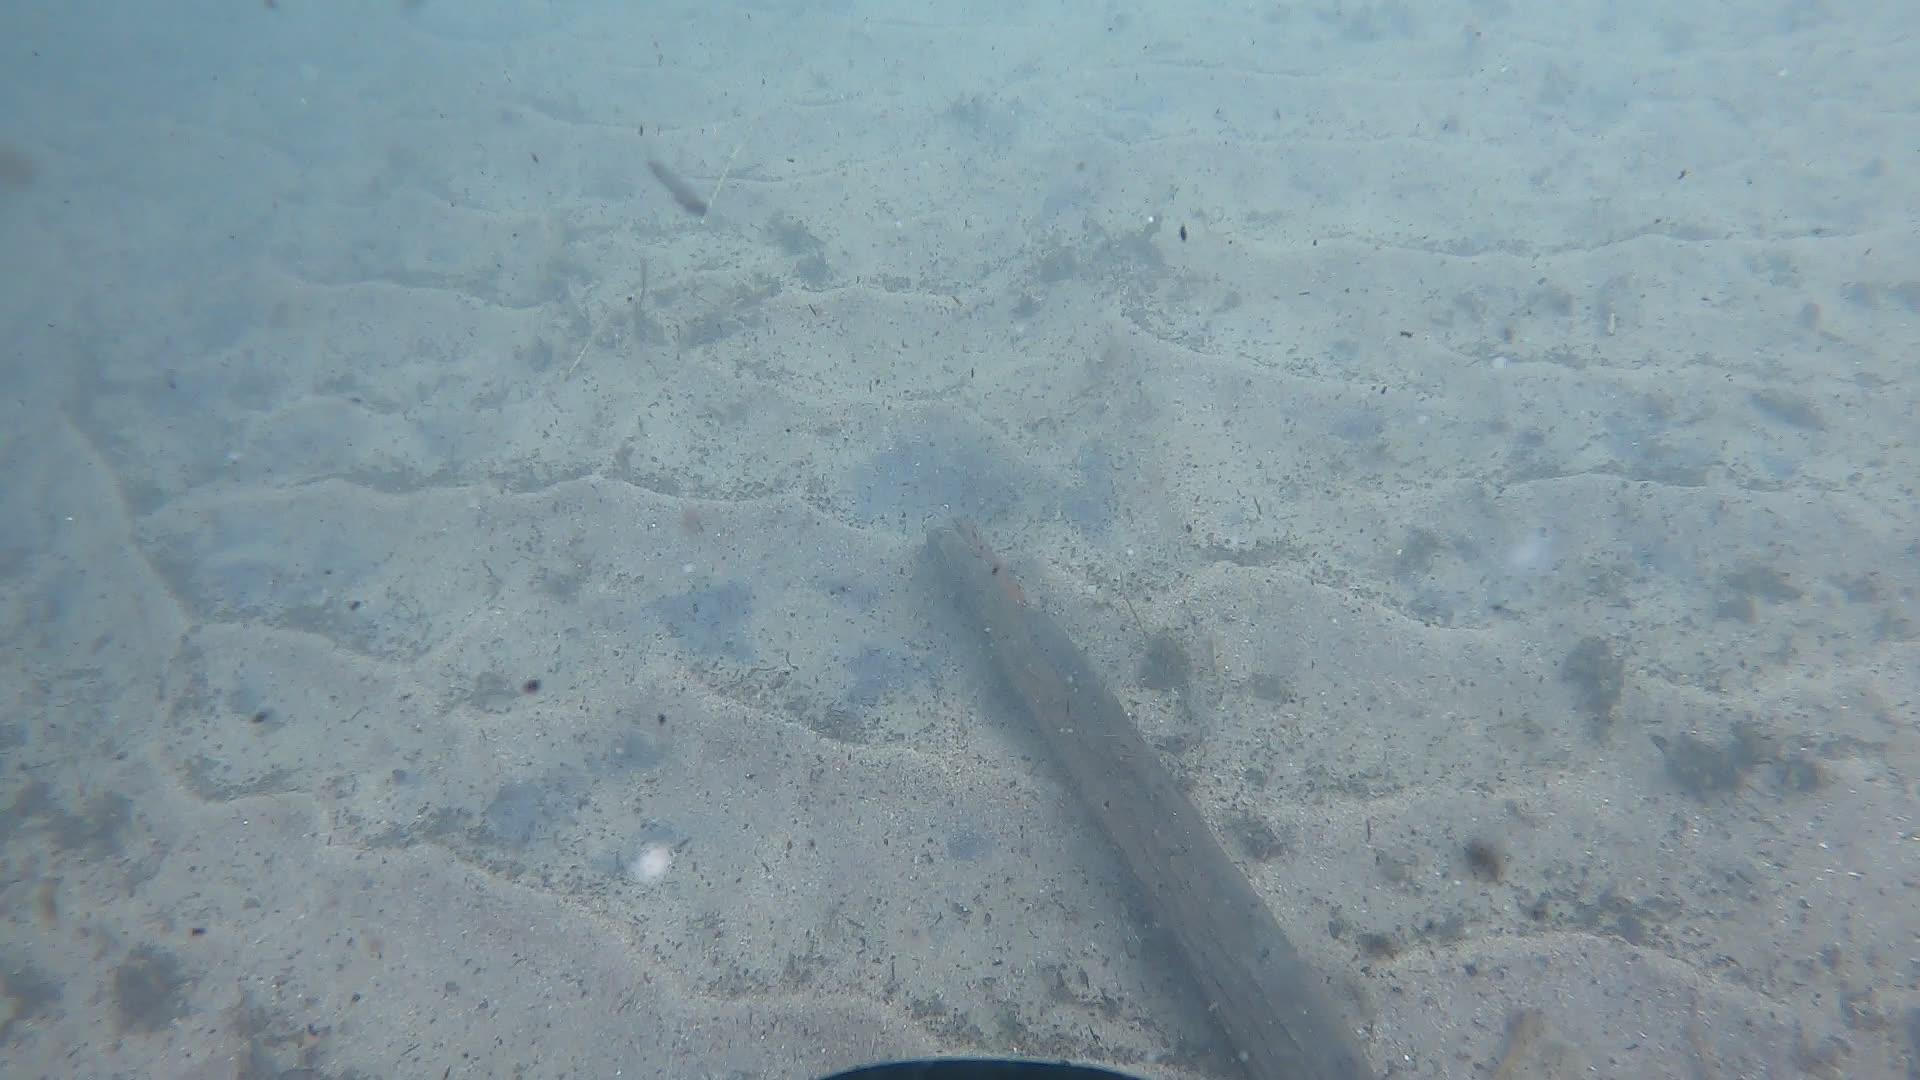wood: (918, 513, 1373, 1080)
